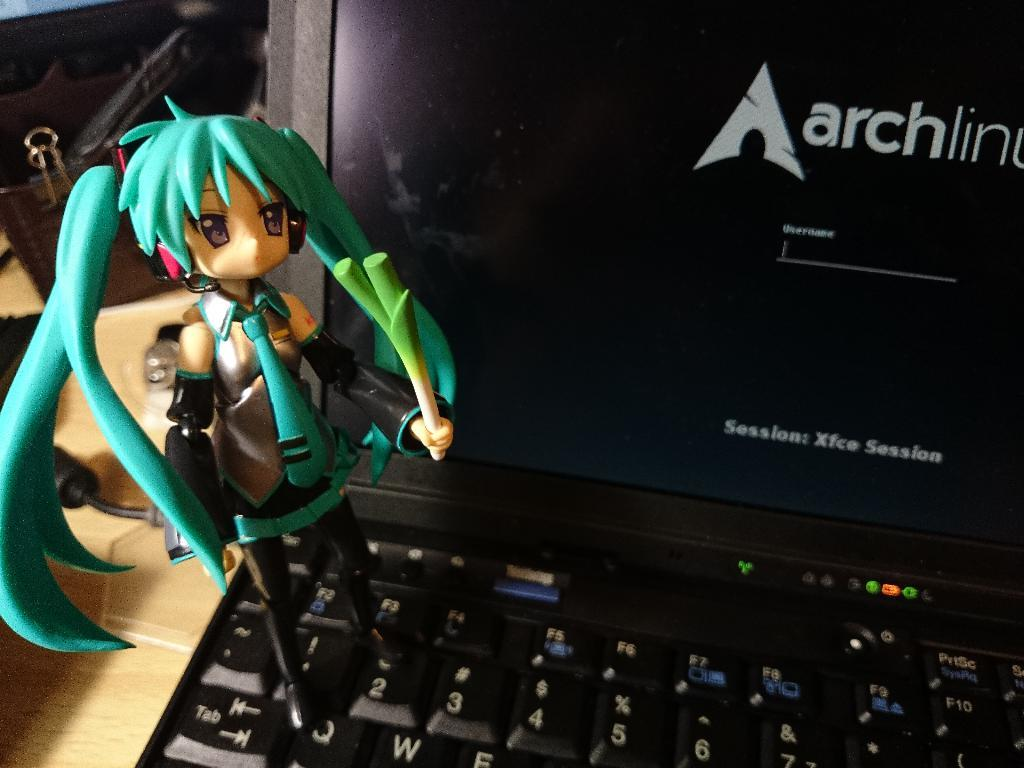Computer-keyboard: (163, 533, 1023, 767)
Laptop: (132, 0, 1023, 767)
